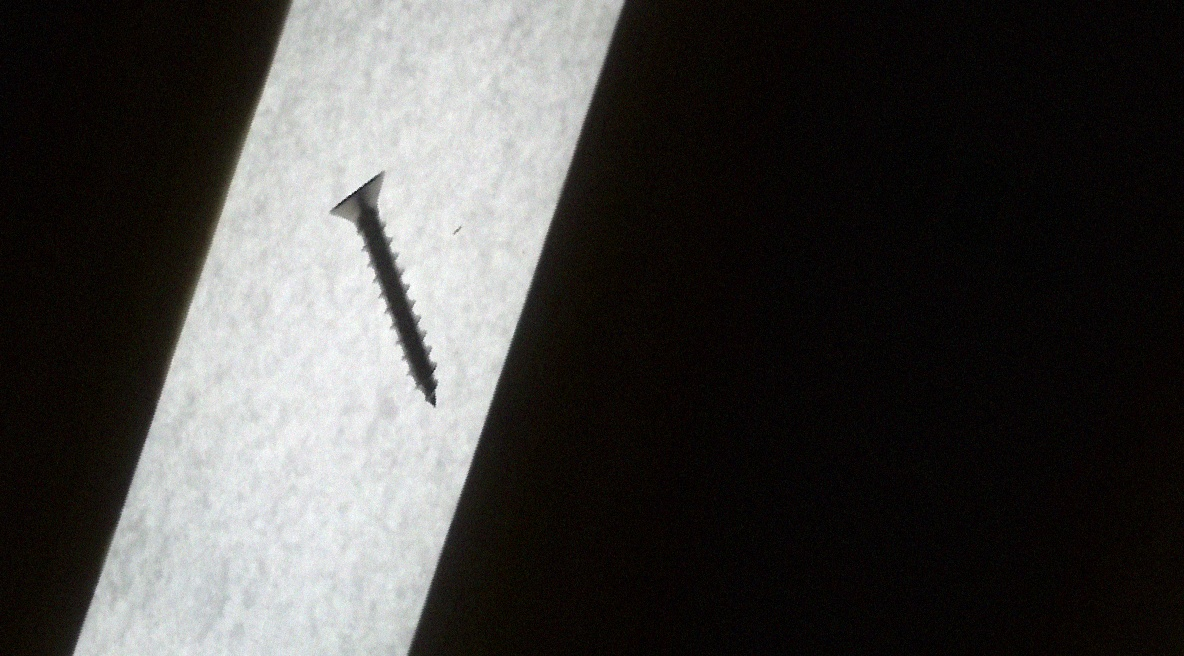S001: (263, 127, 521, 436)
